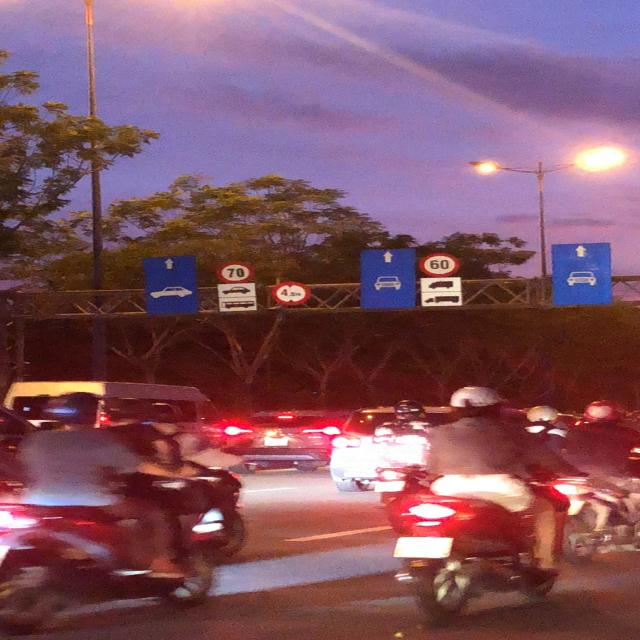Bien bao han che chieu cao: (268, 279, 315, 308)
Bien bao toc do toi da cho phep: (416, 250, 463, 278), (212, 258, 256, 285)
